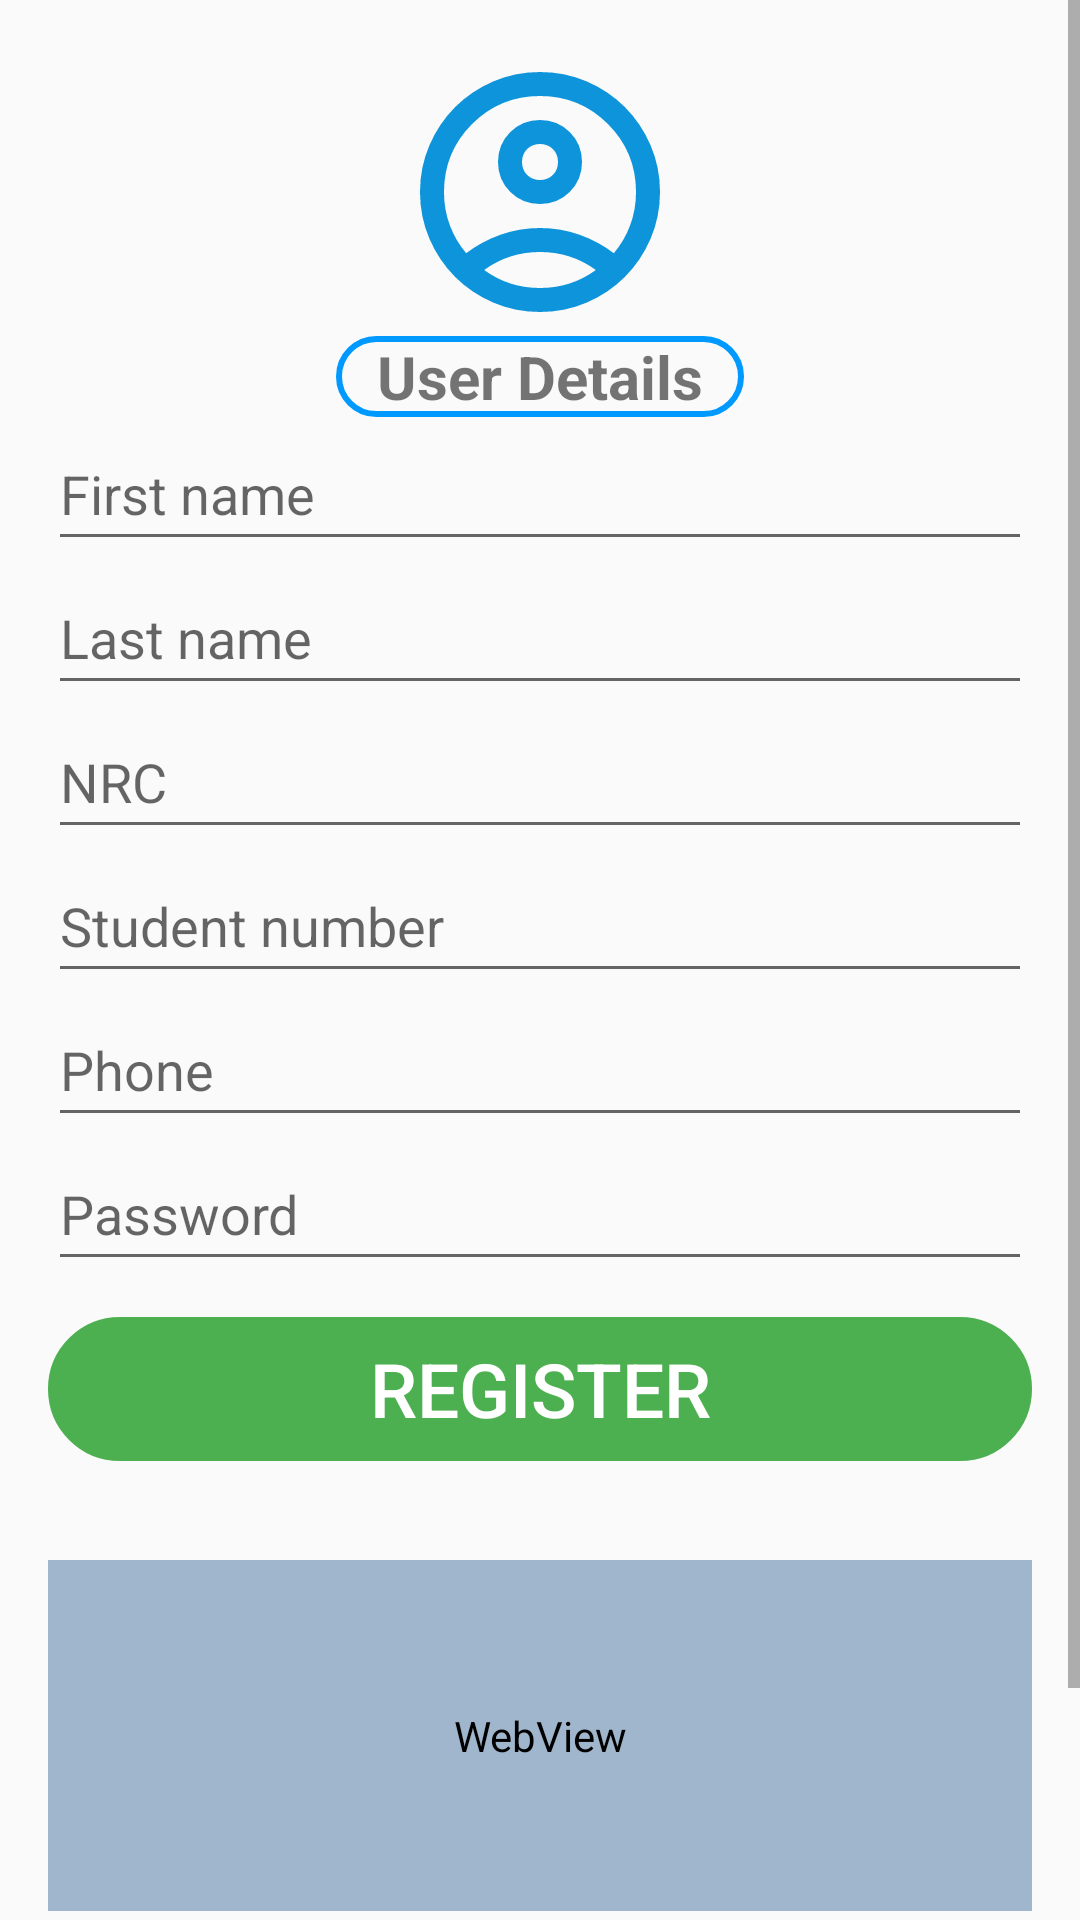

Icons on this 1080 x 1920 Android screen, each with its box as (x1, y1, x2, y2):
account: (420, 72, 660, 312)
